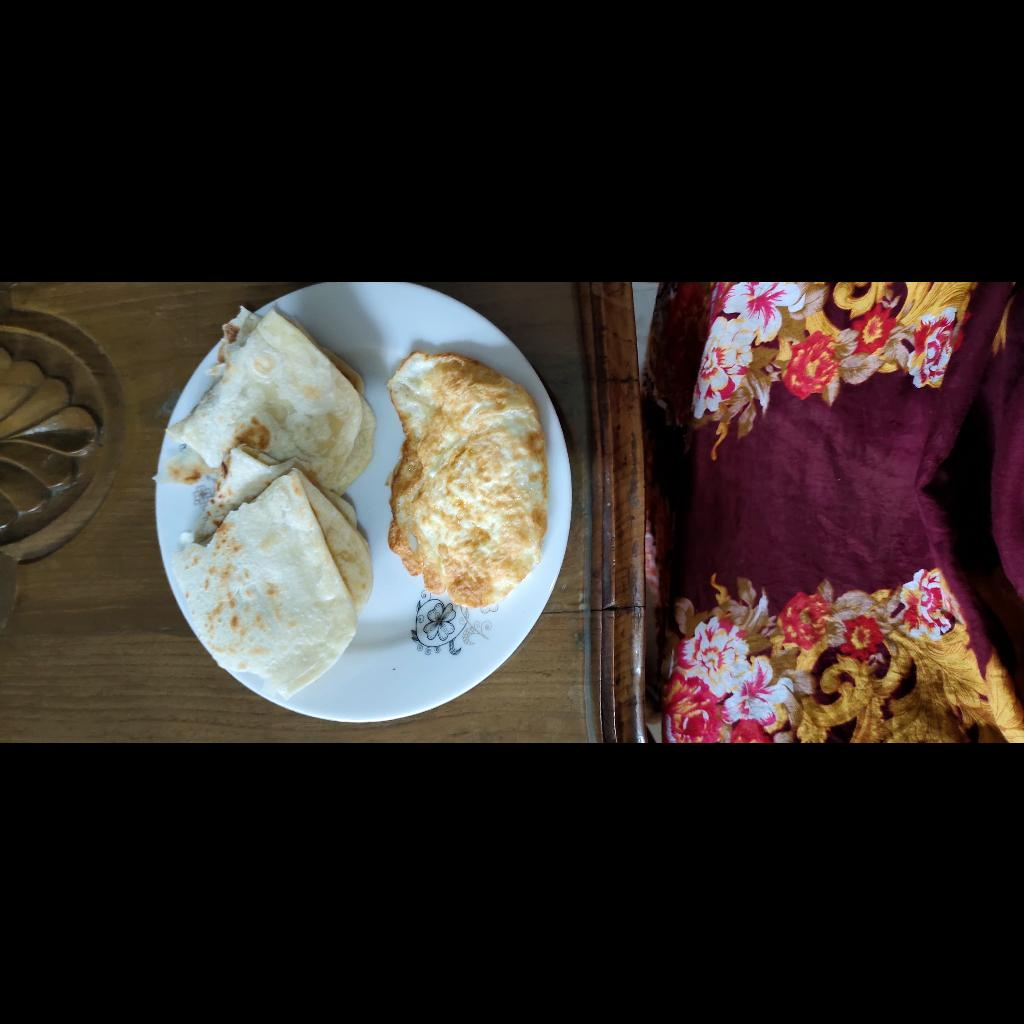egg-poached: (139, 669, 390, 828)
ruti: (43, 429, 437, 658)
